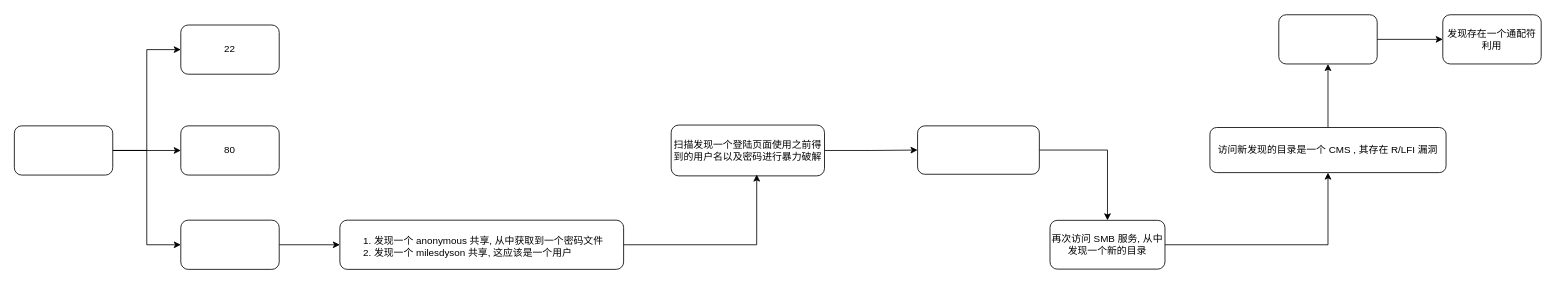
Some shapes in this 1556 by 284 pixel diagram are drawn without their labels. Each missing label, with the centre of its shape:
"139/445 SMB" goes at point (229, 244).
"利用 RFI 获取一个 初始 Shell" goes at point (1327, 39).
"登陆之后, 获取到一个密码" goes at point (978, 149).
"端口扫描" goes at point (63, 150).
